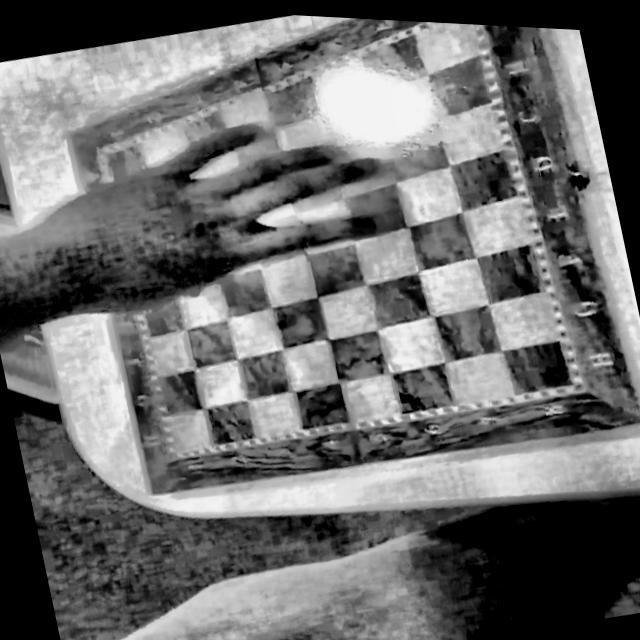chessboard: (101, 22, 578, 459)
p1: (92, 142, 110, 158)
p3: (566, 377, 588, 396)
p4: (162, 451, 180, 467)
